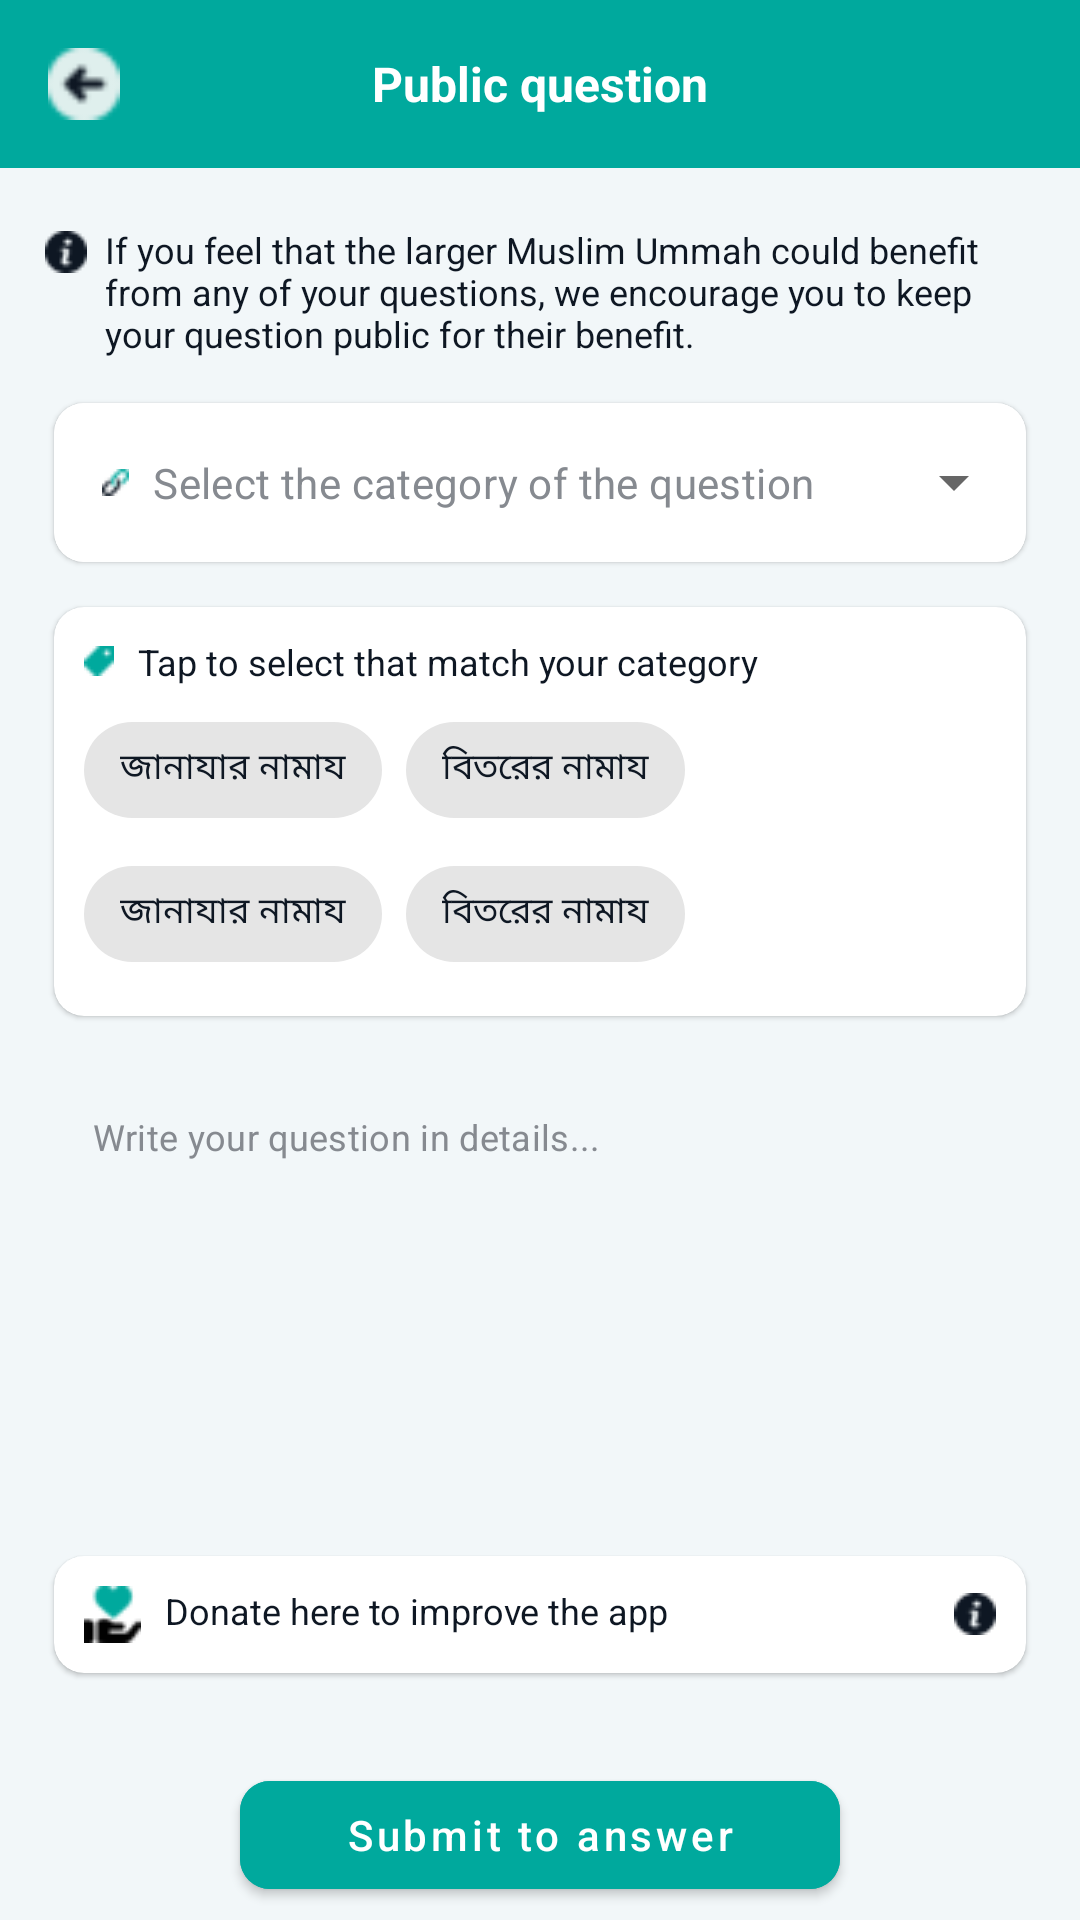

Named icons in this screenshot (1080x1920) and their bounding boxes, (x1, y1, x2, y2):
alert: (45, 231, 87, 273)
previous: (48, 48, 120, 120)
